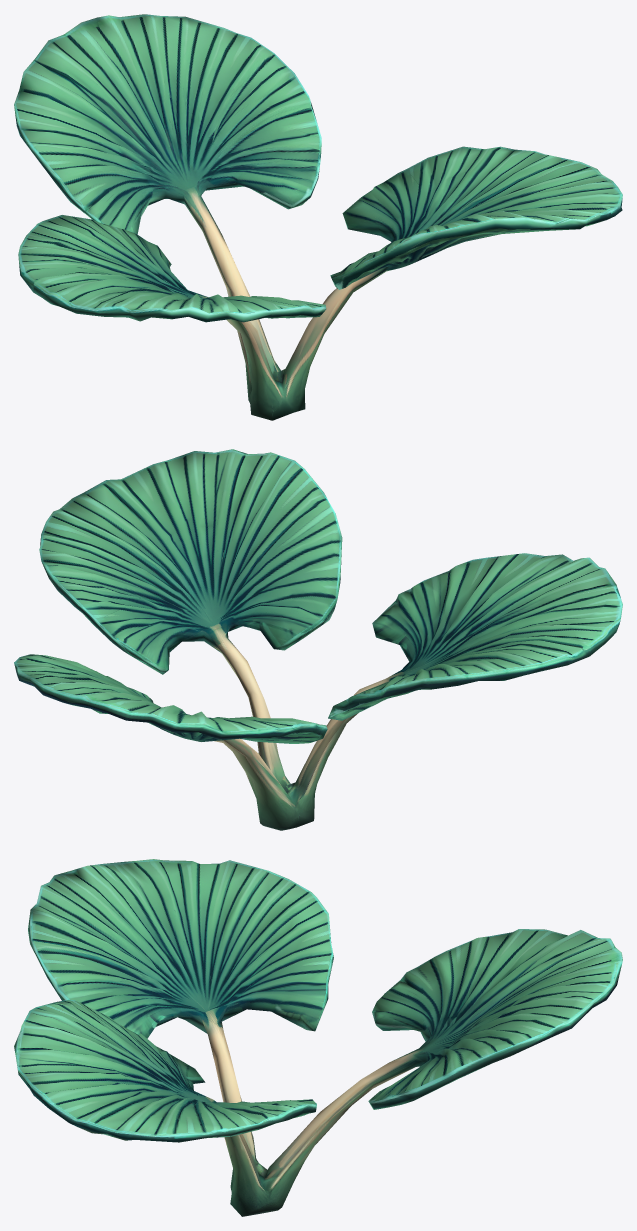
The picture shows the model from 3 angles, top to bottom: view 1: azimuth 30°, elevation 25°; view 2: azimuth 150°, elevation 25°; view 3: azimuth 270°, elevation 25°; orthographic projection.
Visible parts, largest first — view 1: Mesh_0; view 2: Mesh_0; view 3: Mesh_0.
Part boxes in pixels (left/top/right/bottom): Mesh_0: left=14, top=14, right=622, bottom=420; Mesh_0: left=14, top=449, right=622, bottom=830; Mesh_0: left=14, top=859, right=622, bottom=1216.
Bounding box in the file's own units: 1.9 × 0.8591 × 1.85.
1 material, 1 textured.
